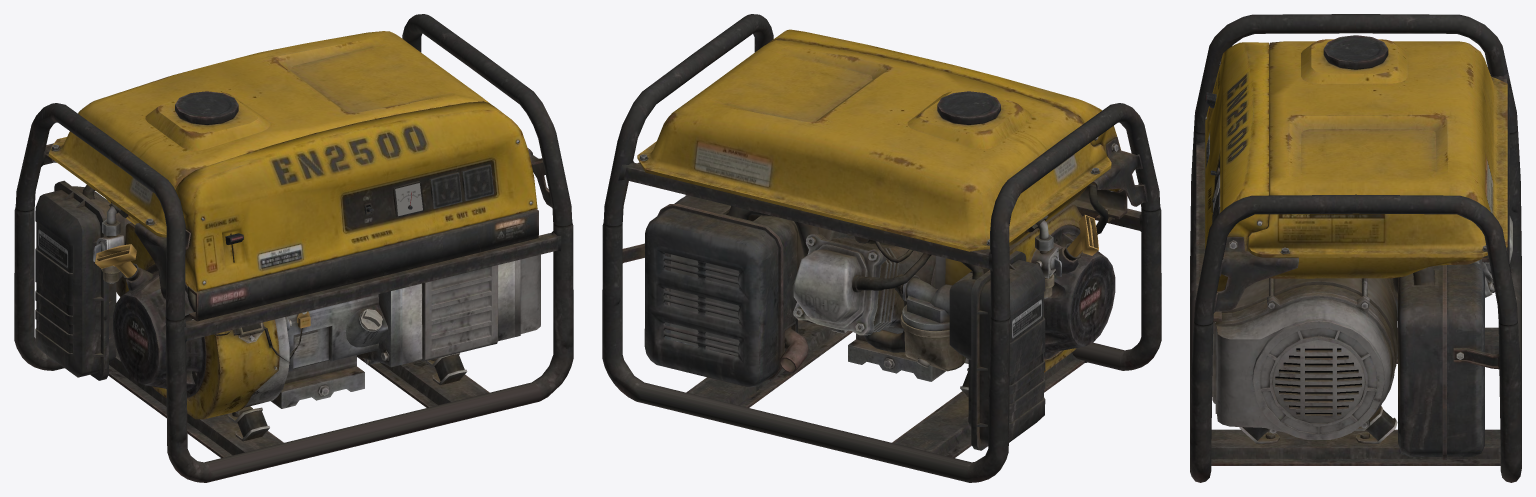
Rendered from generator.glb.
3 views of the same model, side by side, from view 1: azimuth 30°, elevation 25°; view 2: azimuth 150°, elevation 25°; view 3: azimuth 270°, elevation 25° (orthographic).
Parts seen in each view (by area): view 1: portable_generator; view 2: portable_generator; view 3: portable_generator.
Boxes of the visible parts, bbox=[...] form: portable_generator: bbox=[14, 14, 573, 482]; portable_generator: bbox=[602, 14, 1161, 482]; portable_generator: bbox=[1190, 14, 1521, 482].
Size of the model in its own units: 0.8169 by 0.5752 by 0.564.
Materials: 2 (2 with a texture image).
